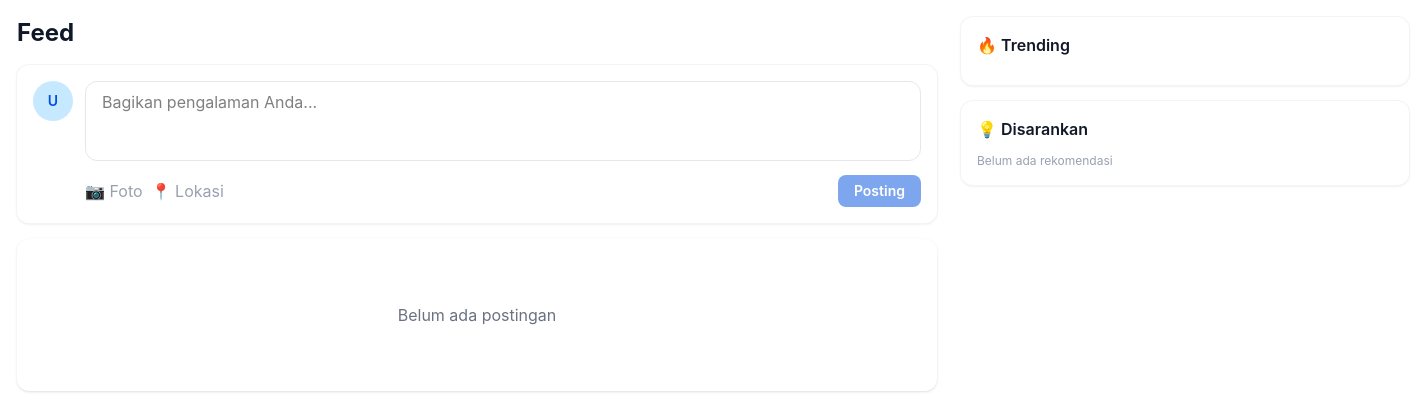
SocialFeedPage › enables post button when textarea has text
The image size is (1427, 409).
Expected: the text "Belum ada postingan" is shown, [398,305,556,325]
Type "Test post content" into the text box with placeholder "Bagikan pengalaman Anda..." at x=503, y=121, box [85,81,921,161]
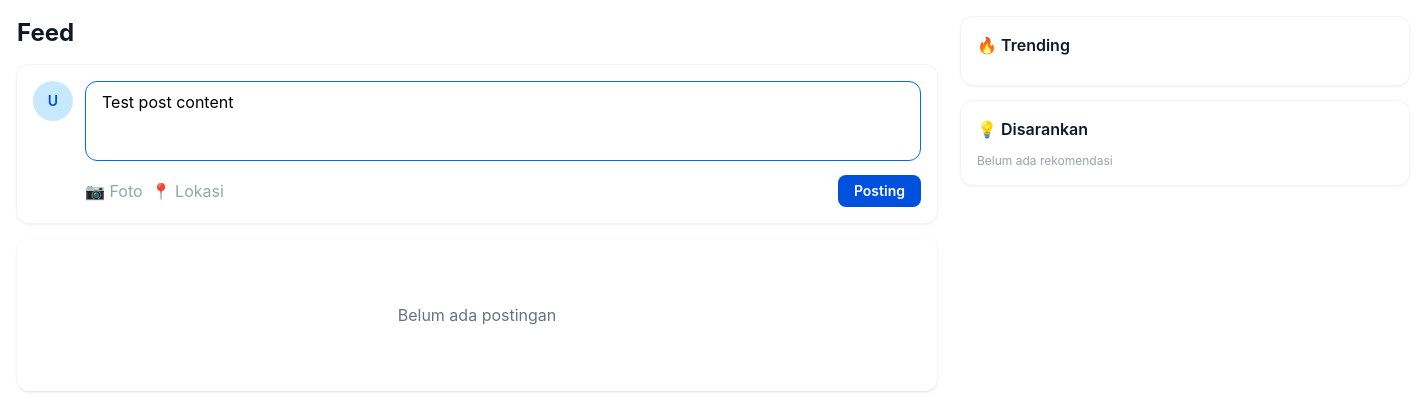
Expected: the button "Posting" is enabled, [838,175,921,207]
